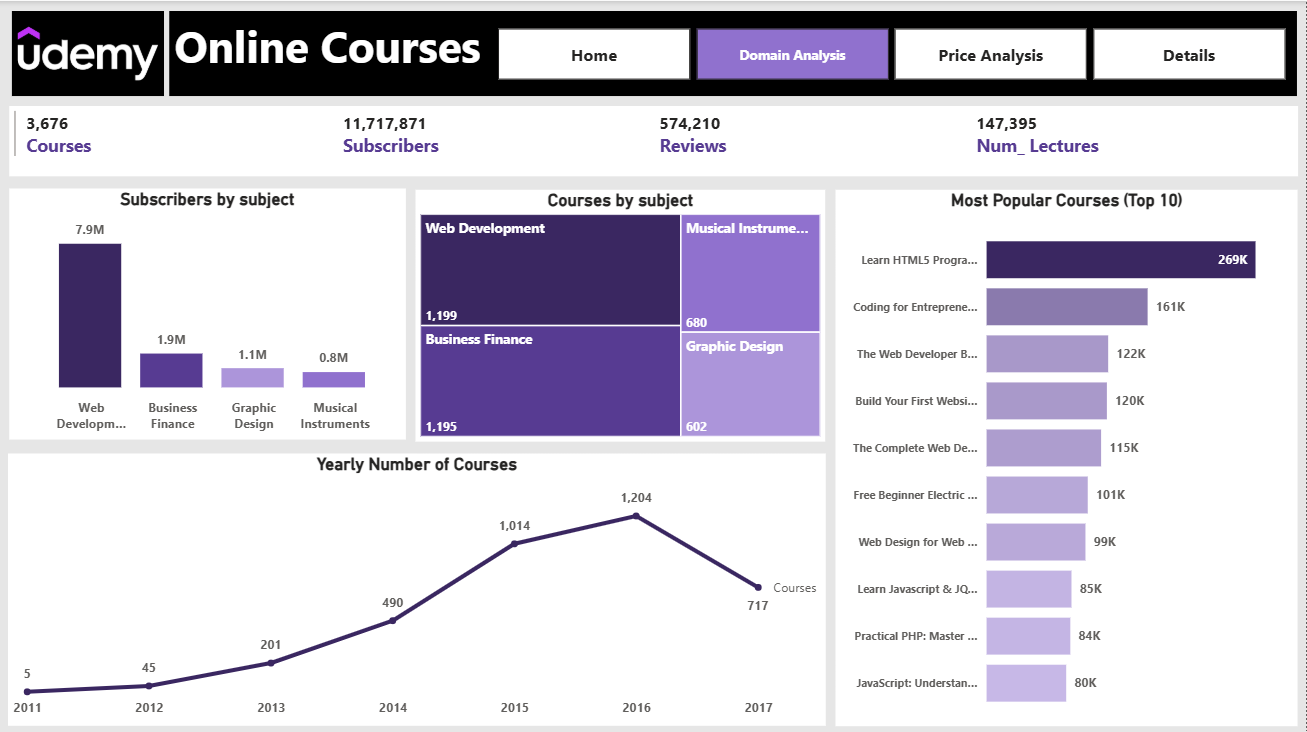

The dashboard page shown, as its layout file describes it:
{"tool":"powerbi","page":{"name":"Domain Analysis","canvas":[1280,720],"ordinal":1},"visuals":[{"type":"image","box":[0,9.8,176.1,83.2],"z":0},{"type":"multiRowCard","fields":{"Values":["udemy.Courses","udemy.Subscribers","udemy.Views","udemy.Num_ Lectures"]},"box":[11,102.7,1260.7,68.5],"z":1000},{"type":"textbox","box":[167.5,9.8,1103,83.2],"z":2000},{"type":"columnChart","fields":{"Y":["udemy.Subscribers"],"Category":["udemy.subject"]},"box":[11,183.4,387.6,245.8],"z":3000},{"type":"treemap","fields":{"Values":["udemy.Courses"],"Group":["udemy.subject","udemy.level"]},"box":[408.3,184.1,401.2,246.6],"z":4000},{"type":"lineChart","title":"Yearly Number of Courses","fields":{"Y":["udemy.Courses"],"Category":["udemy.published_timestamp.Variation.Date Hierarchy.Year"]},"box":[9.4,442.5,800,266.7],"z":5000},{"type":"clusteredBarChart","title":"Most Popular Courses (Top 10)","fields":{"Y":["udemy.Subscribers"],"Category":["udemy.Course - Title"]},"box":[818.9,184.1,451.9,525.1],"z":6000},{"type":"pageNavigator","box":[489.1,26.9,772.8,50.1],"z":7000}]}

Visuals, with their boxes in screenshot pixels (x1, y1, x2, y2), scaled from the page's 1280x720 canvas onto the 1307x732 screenshot:
image: l=0, t=10, r=180, b=95
multiRowCard - udemy.Courses x udemy.Subscribers: l=11, t=104, r=1299, b=174
textbox: l=171, t=10, r=1297, b=95
columnChart - udemy.Subscribers x udemy.subject: l=11, t=186, r=407, b=436
treemap - udemy.Courses x udemy.subject: l=417, t=187, r=827, b=438
"Yearly Number of Courses" lineChart: l=10, t=450, r=826, b=721
"Most Popular Courses (Top 10)" clusteredBarChart: l=836, t=187, r=1298, b=721
pageNavigator: l=499, t=27, r=1289, b=78
